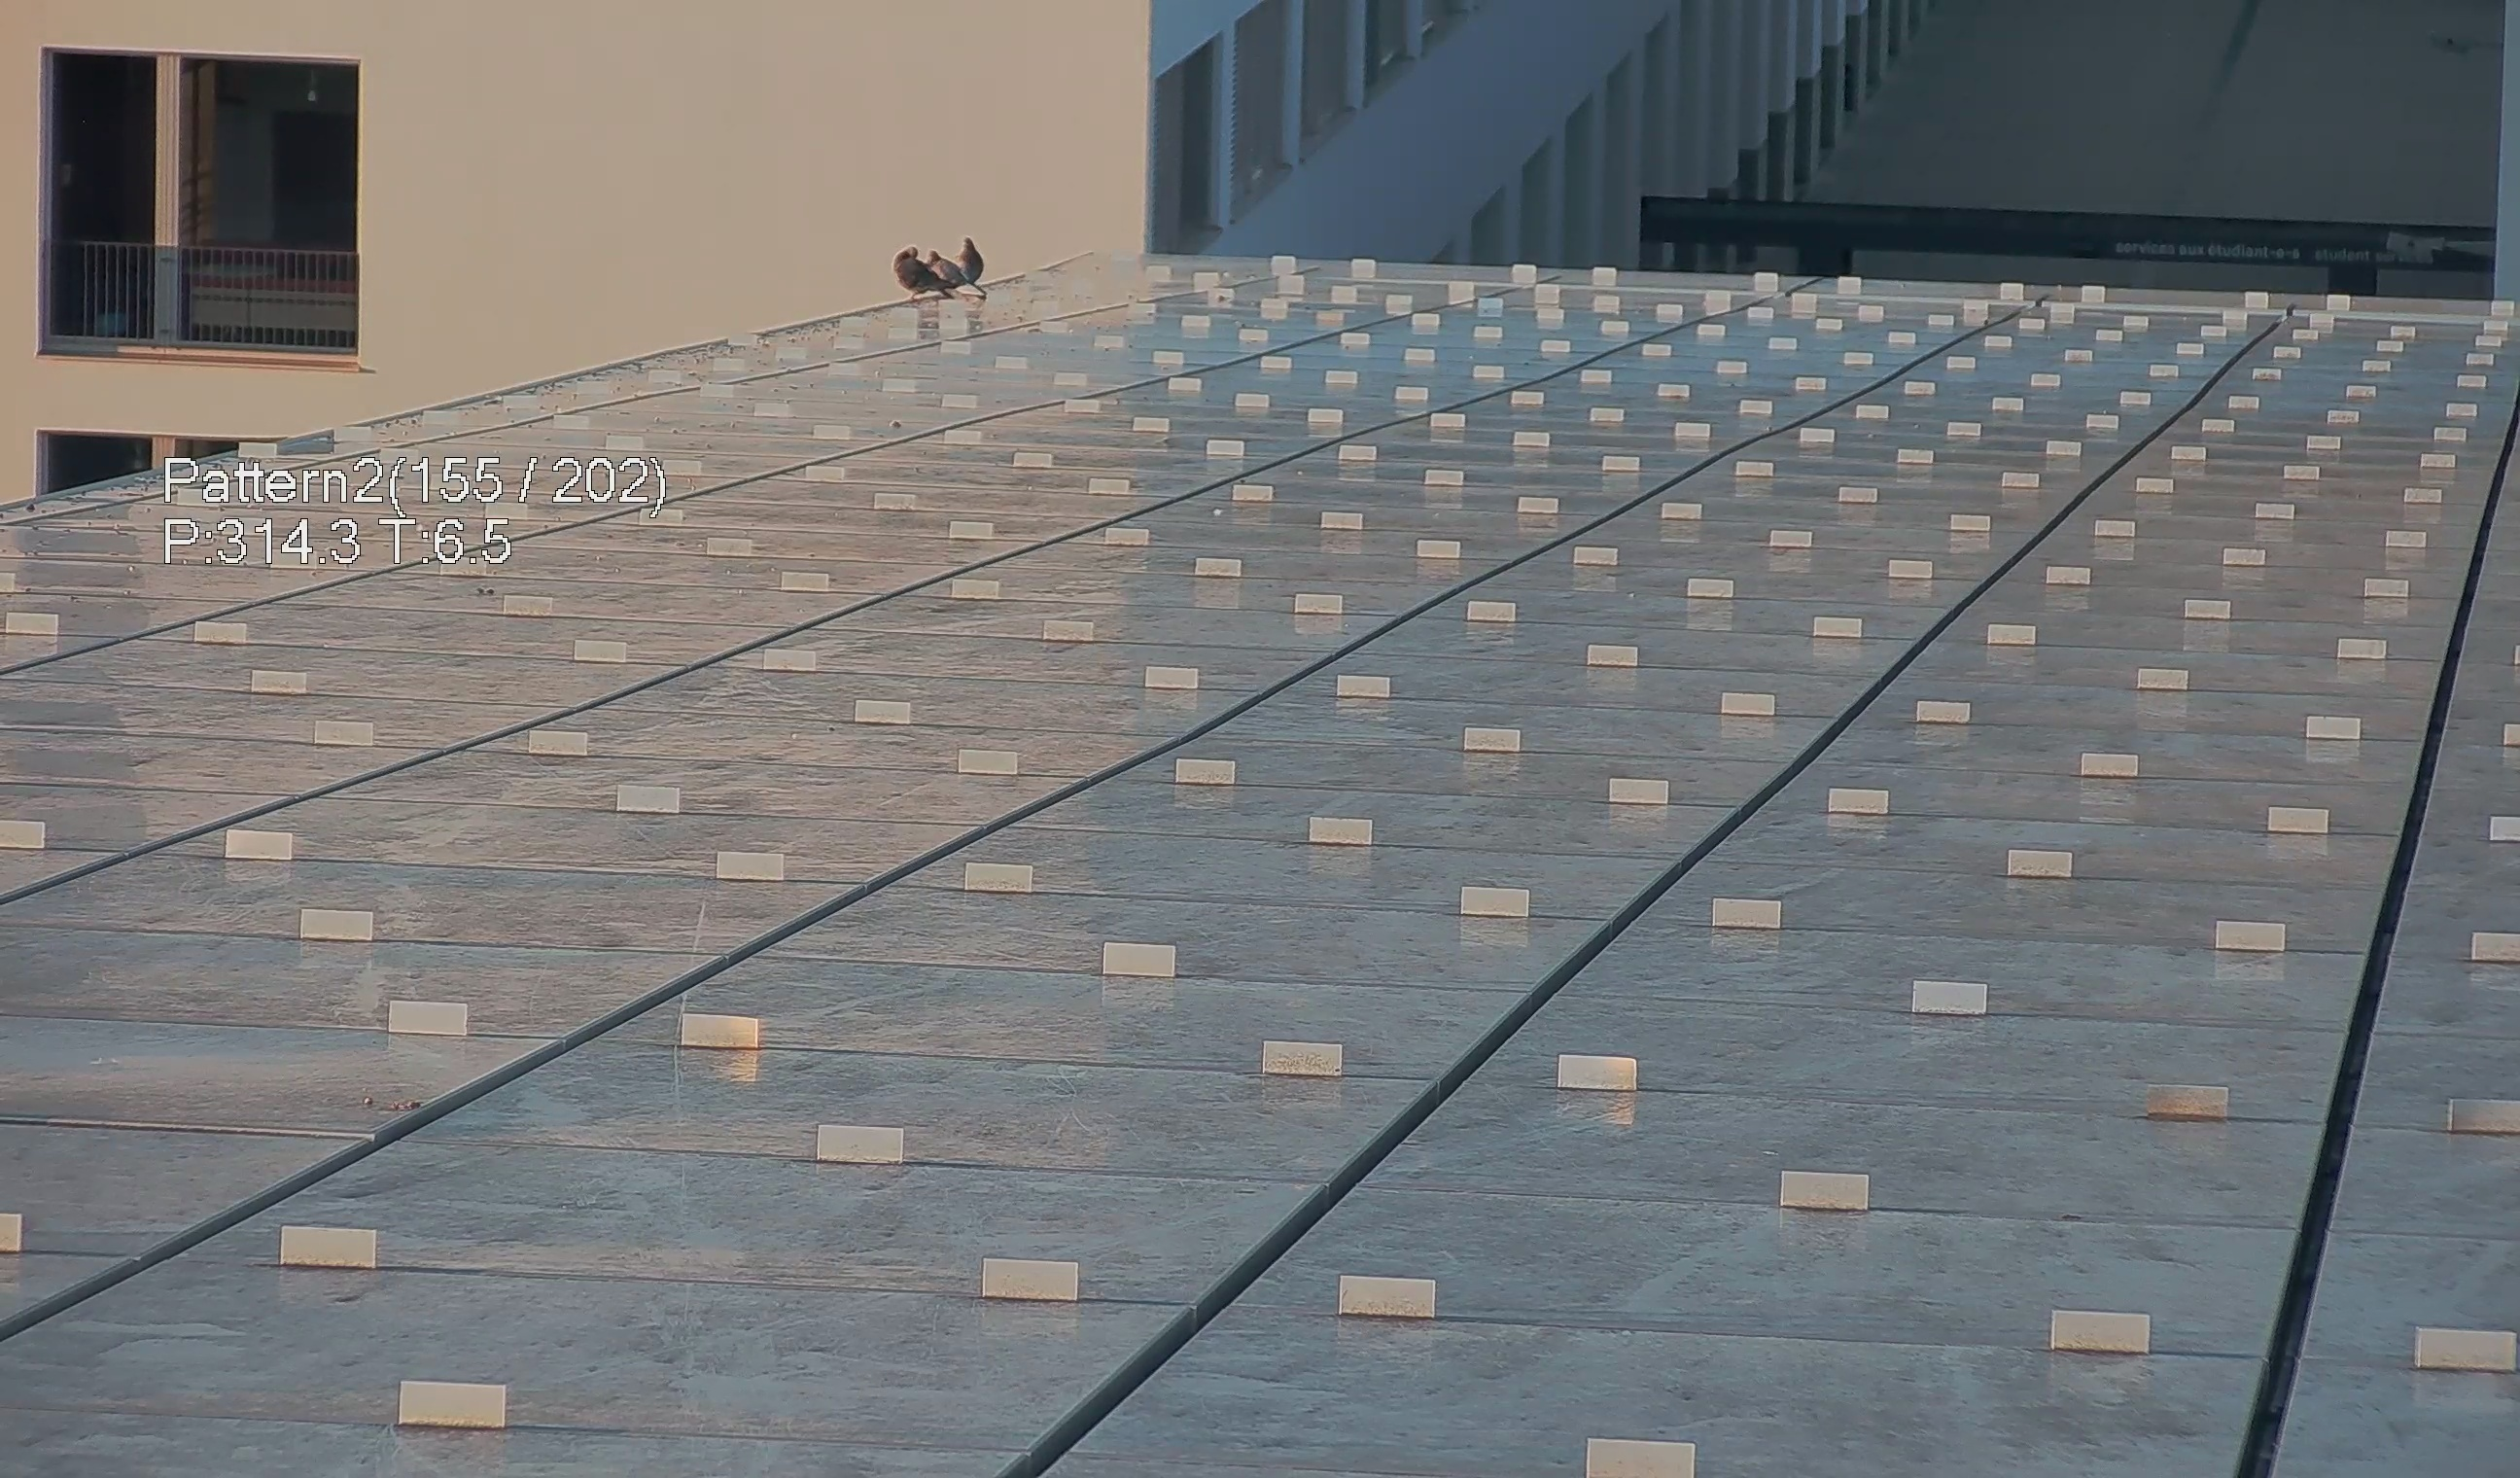Pigeon: (890, 246, 953, 304), (925, 250, 985, 294), (950, 236, 987, 287)
